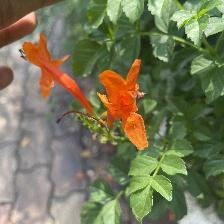honeysuckle: (101, 58, 152, 151)
